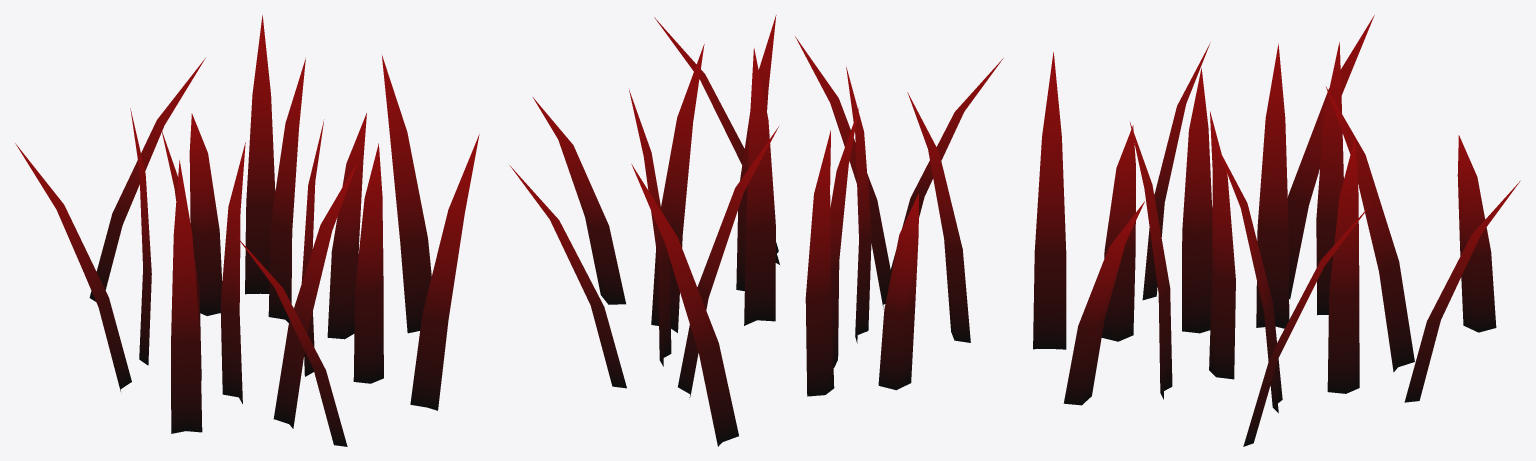
File: Grass_0.fbx
3 views of the same model, side by side, from view 1: azimuth 30°, elevation 25°; view 2: azimuth 150°, elevation 25°; view 3: azimuth 270°, elevation 25° (orthographic). The views are drawn at different scales.
Parts seen in each view (by area): view 1: Grass_0; view 2: Grass_0; view 3: Grass_0.
Part boxes in pixels (bbox=[...]): Grass_0: bbox=[15, 15, 479, 446]; Grass_0: bbox=[509, 15, 1003, 446]; Grass_0: bbox=[1033, 15, 1520, 446].
Size of the model in its own units: 90.92 by 60.73 by 98.64.
